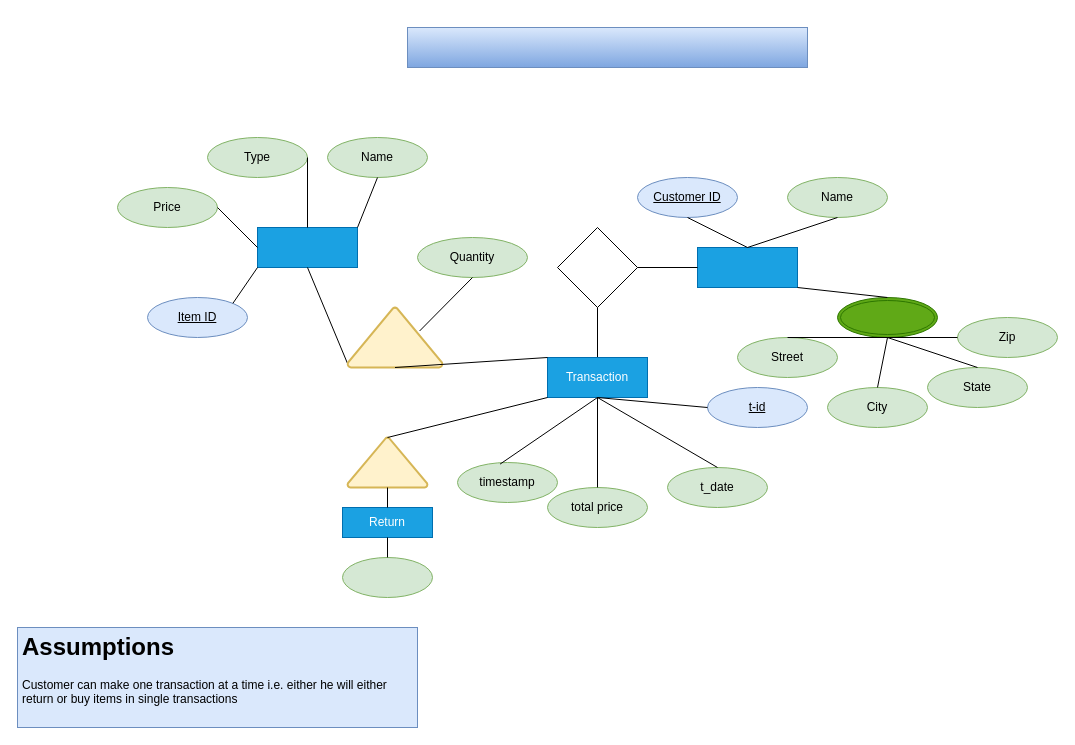
Image size: 1075x745. Some labels were removed from this diagram. The box of each missing label's shape, as (x1, y1, x2, y2) in pixels:
Address: (836, 296, 938, 338)
Customer: (696, 246, 798, 288)
does: (556, 226, 638, 308)
has: (346, 306, 443, 368)
Is A: (346, 436, 428, 488)
Item: (256, 226, 358, 268)
Problem 2 Mini Store Database: (406, 26, 808, 68)
Return Time: (342, 556, 432, 598)
